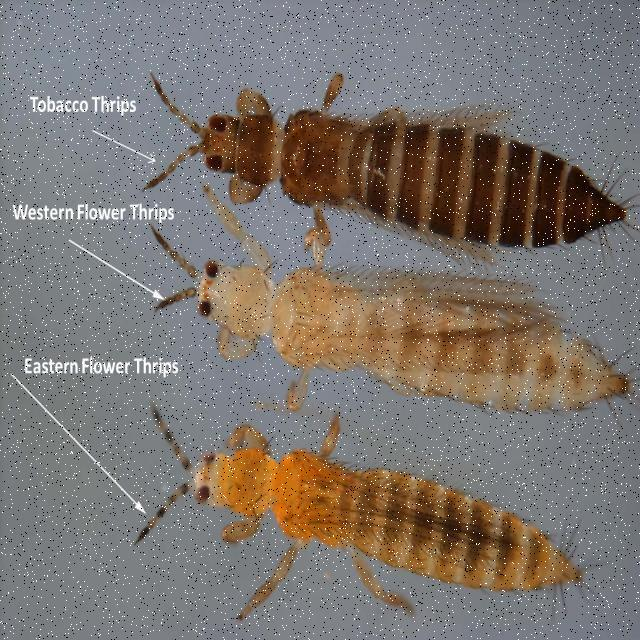Thrips: (104, 198, 634, 442), (64, 382, 607, 618), (148, 33, 618, 264)
